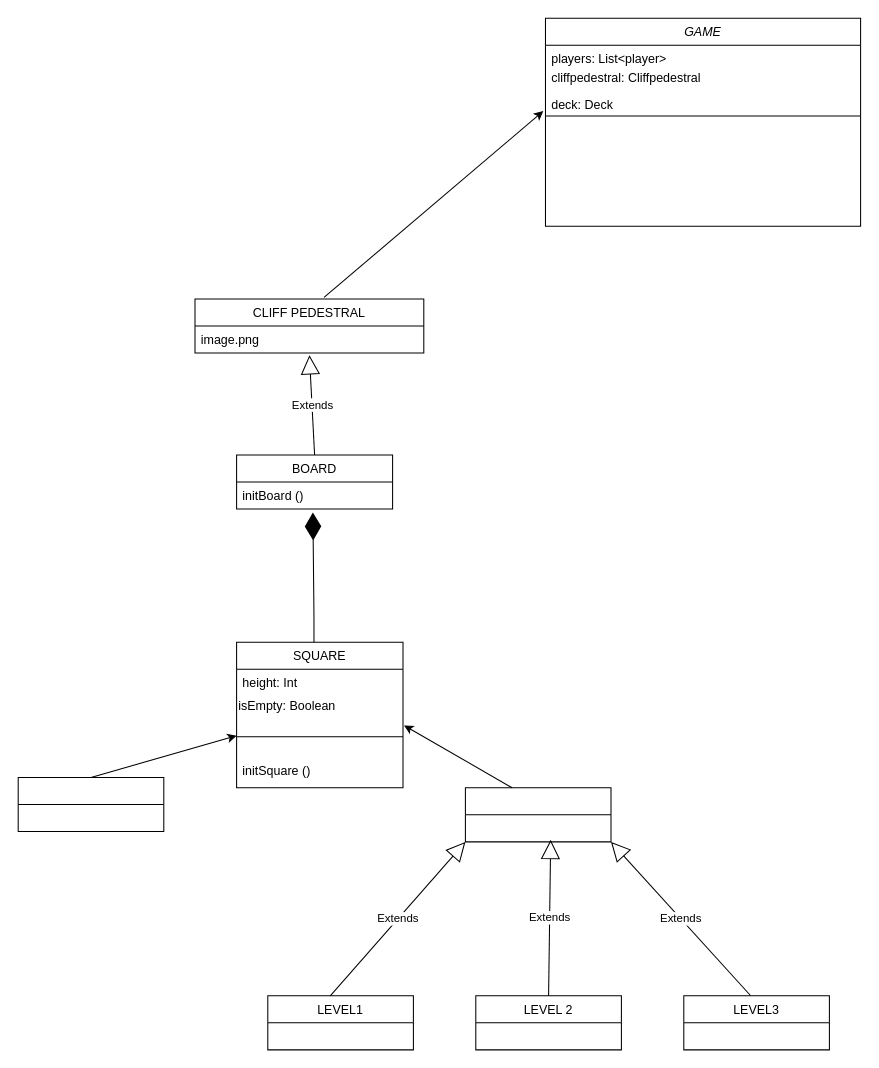
Image size: 879x1068. Some labels were removed from this diagram. Here are the shapes that lost their labels. From the top down, the centre of each, then its label:
At point (90, 803): "DOME".
At point (537, 814): "BLOCK(ABSTRACT)".
